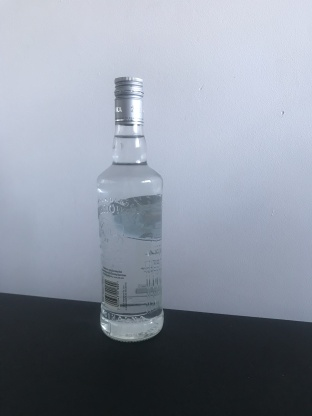nakretka: (112, 76, 145, 126)
